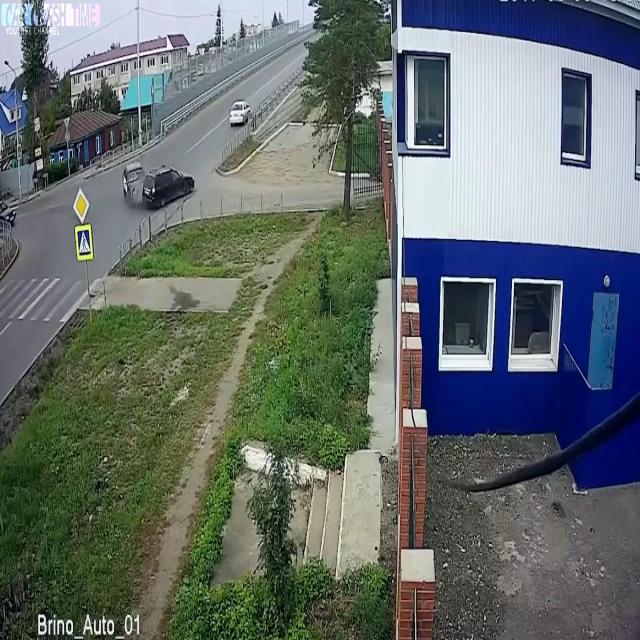accident: (117, 153, 199, 217)
